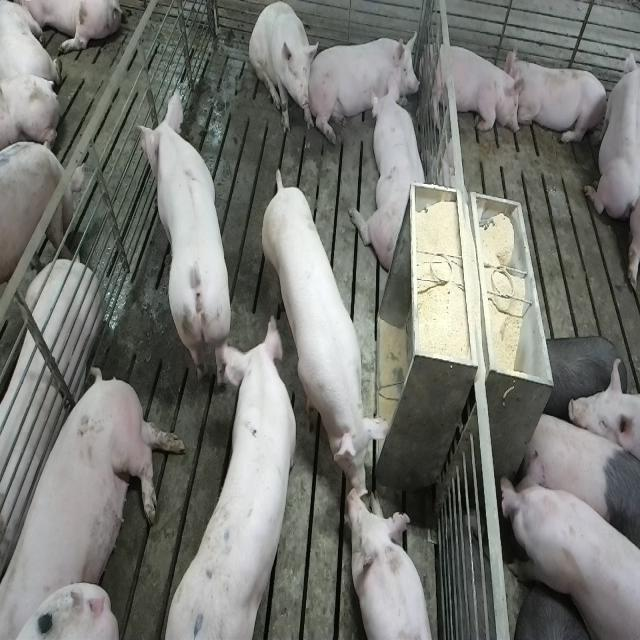Lateral_lying: (5, 363, 187, 635), (0, 259, 103, 579)
Sitting: (250, 3, 318, 138)
Standing: (158, 305, 300, 635), (261, 171, 388, 485), (137, 93, 234, 393), (498, 463, 638, 640), (519, 409, 638, 565), (0, 143, 85, 356)
Sternal_lying: (356, 84, 430, 274), (347, 488, 434, 640), (313, 28, 419, 137), (425, 37, 524, 139), (509, 52, 610, 150), (584, 41, 637, 223)
